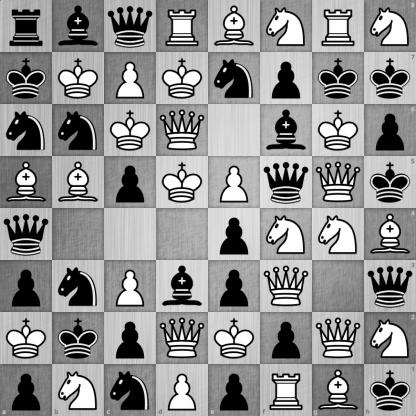B: (312, 364, 364, 416), (364, 209, 416, 260), (1, 157, 52, 208), (53, 157, 104, 208), (209, 1, 260, 52)
K: (1, 313, 52, 364), (53, 53, 104, 104), (105, 105, 156, 156), (157, 53, 208, 104), (157, 157, 208, 208), (209, 313, 260, 364), (313, 105, 364, 156)
N: (52, 364, 104, 416), (364, 0, 416, 52), (364, 312, 416, 364), (261, 1, 312, 52), (261, 209, 312, 260), (313, 209, 364, 260)
P: (156, 364, 209, 416), (105, 53, 156, 104), (105, 261, 156, 312), (209, 157, 260, 208)
Q: (157, 105, 208, 156), (157, 313, 208, 364), (261, 261, 312, 312), (313, 157, 364, 208), (313, 313, 364, 364)
R: (260, 364, 312, 416), (157, 1, 208, 52), (313, 1, 364, 52)
b: (53, 1, 104, 52), (157, 261, 208, 312), (261, 105, 312, 156)
board: (0, 0, 415, 415)
k: (364, 156, 416, 209), (364, 52, 416, 104), (364, 364, 416, 416), (1, 53, 52, 104), (53, 313, 104, 364), (313, 53, 364, 104)
n: (104, 364, 156, 416), (1, 105, 52, 156), (53, 105, 104, 156), (53, 261, 104, 312), (209, 53, 260, 104)
p: (0, 364, 52, 416), (364, 104, 416, 156), (209, 364, 260, 416), (1, 261, 52, 312), (105, 157, 156, 208), (105, 313, 156, 364), (209, 209, 260, 260), (209, 261, 260, 312), (261, 53, 312, 104), (261, 313, 312, 364)
q: (364, 260, 416, 312), (1, 209, 52, 260), (105, 1, 156, 52), (261, 157, 312, 208)
r: (1, 1, 52, 52)
